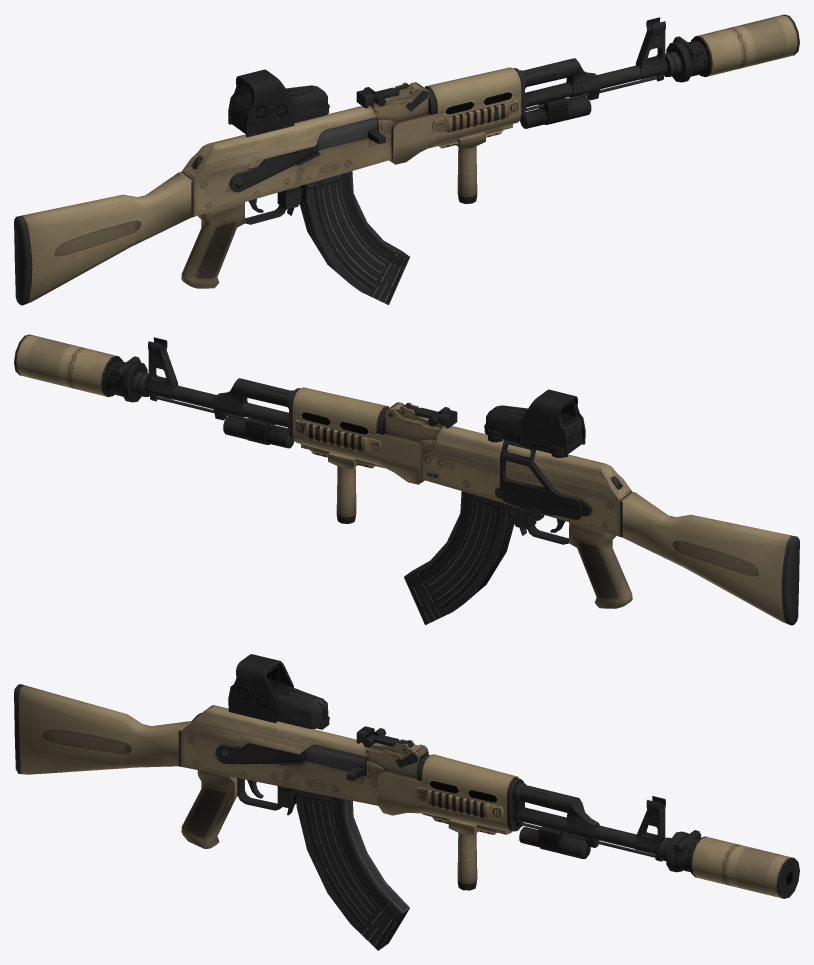
Rendered from ak74-tactical.glb.
3 views of the same model, one above another, from view 1: azimuth 30°, elevation 25°; view 2: azimuth 150°, elevation 25°; view 3: azimuth 330°, elevation 25° (orthographic).
Parts seen in each view (by area): view 1: Object_2; view 2: Object_2; view 3: Object_2.
Part boxes in pixels (x1,y1,x2,y2): Object_2: (14,14,799,305); Object_2: (14,334,799,625); Object_2: (14,654,799,950).
Size of the model in its own units: 1.01 by 0.3197 by 0.0649.
Materials: 1 (1 with a texture image).
